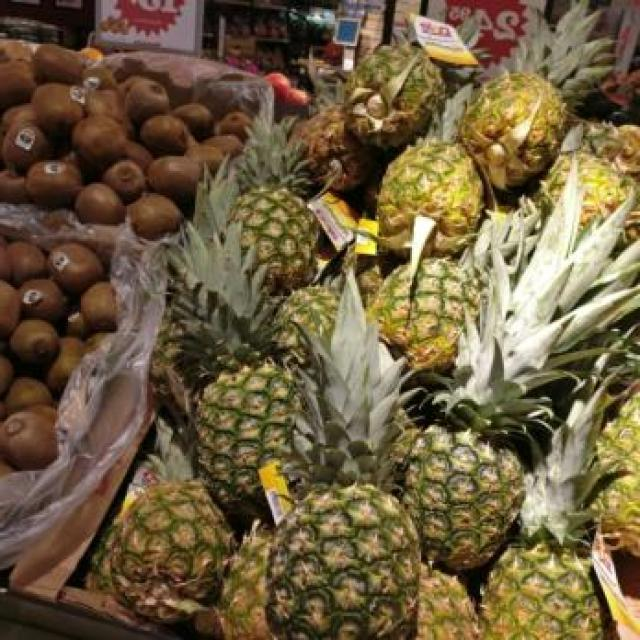pineapple: (394, 178, 640, 574), (266, 268, 420, 640), (174, 222, 299, 524), (484, 389, 618, 639), (460, 1, 612, 189), (90, 480, 234, 623), (378, 85, 484, 251), (348, 16, 478, 148), (231, 120, 319, 293), (369, 258, 478, 369), (194, 520, 274, 639), (291, 105, 376, 192), (598, 391, 640, 556), (415, 564, 480, 640), (275, 289, 340, 364), (579, 151, 635, 226), (541, 154, 571, 203)
